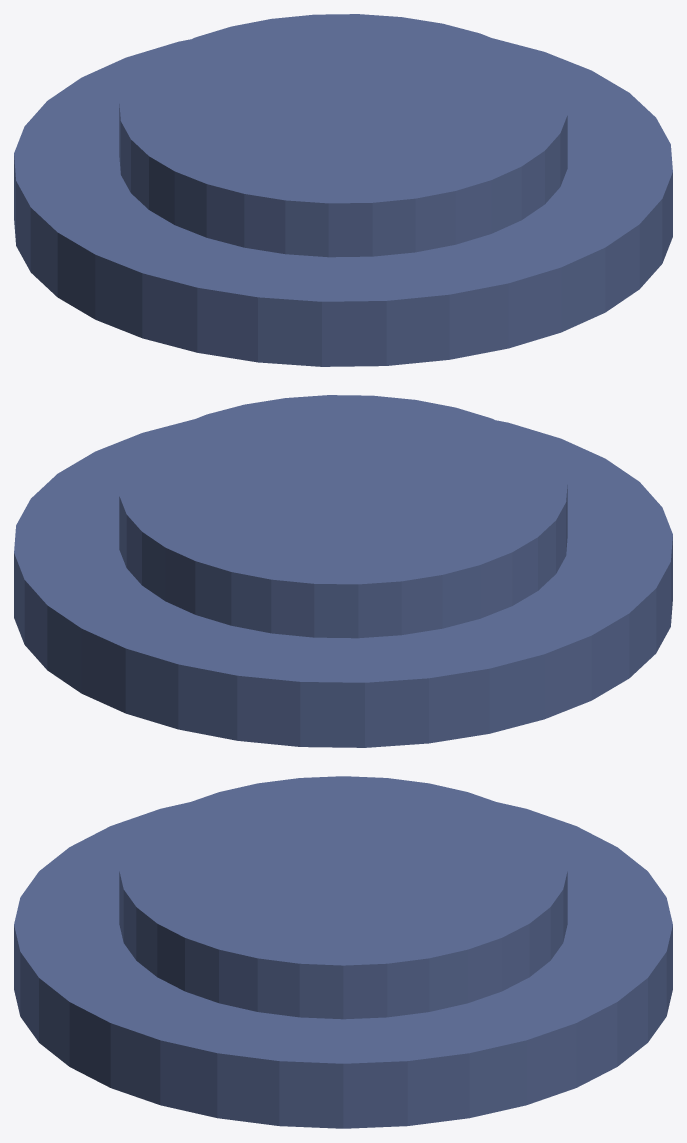
The model's file is buc.fbx.
The picture shows the model from 3 angles, top to bottom: view 1: azimuth 30°, elevation 25°; view 2: azimuth 150°, elevation 25°; view 3: azimuth 270°, elevation 25°; orthographic projection.
Parts seen in each view (by area): view 1: buc; view 2: buc; view 3: buc.
Boxes of the visible parts, x1,y1,x2,y2 form: buc: (14,14,672,366); buc: (14,395,672,747); buc: (14,776,672,1128).
Size of the model in its own units: 1.01 by 0.2001 by 1.01.
